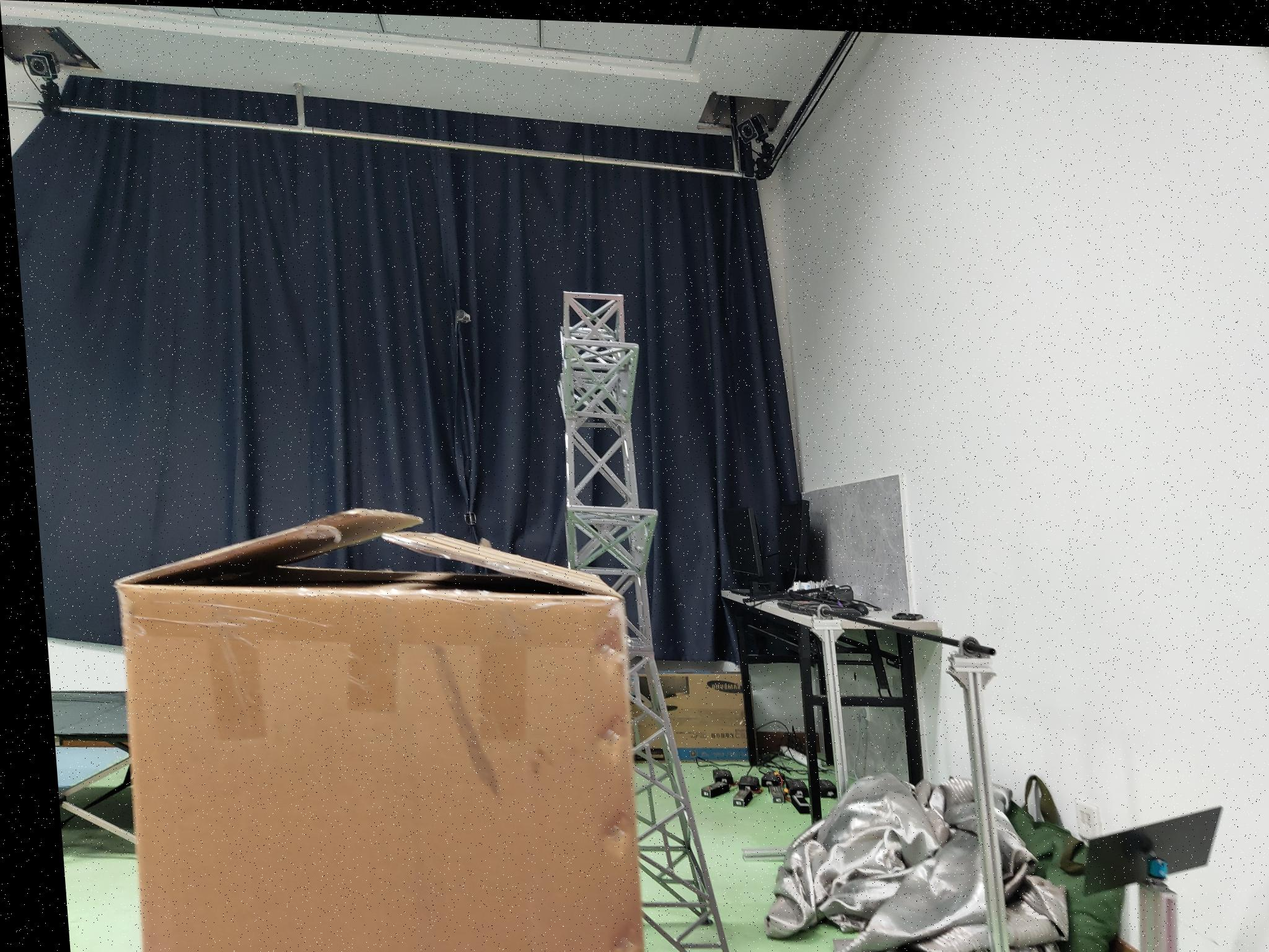tower: (535, 286, 679, 575)
